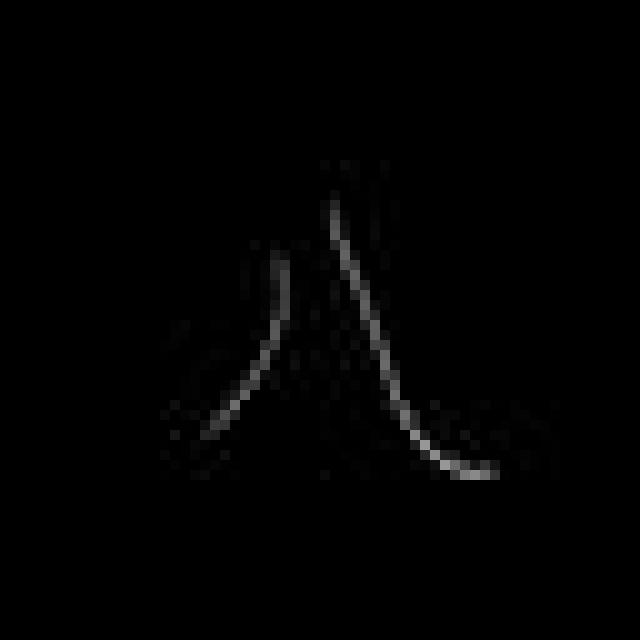8 -eight-: (198, 200, 504, 509)
